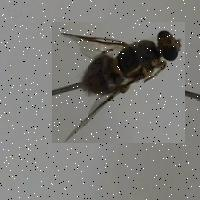Oriental-fruit-fly: (52, 22, 185, 143)
